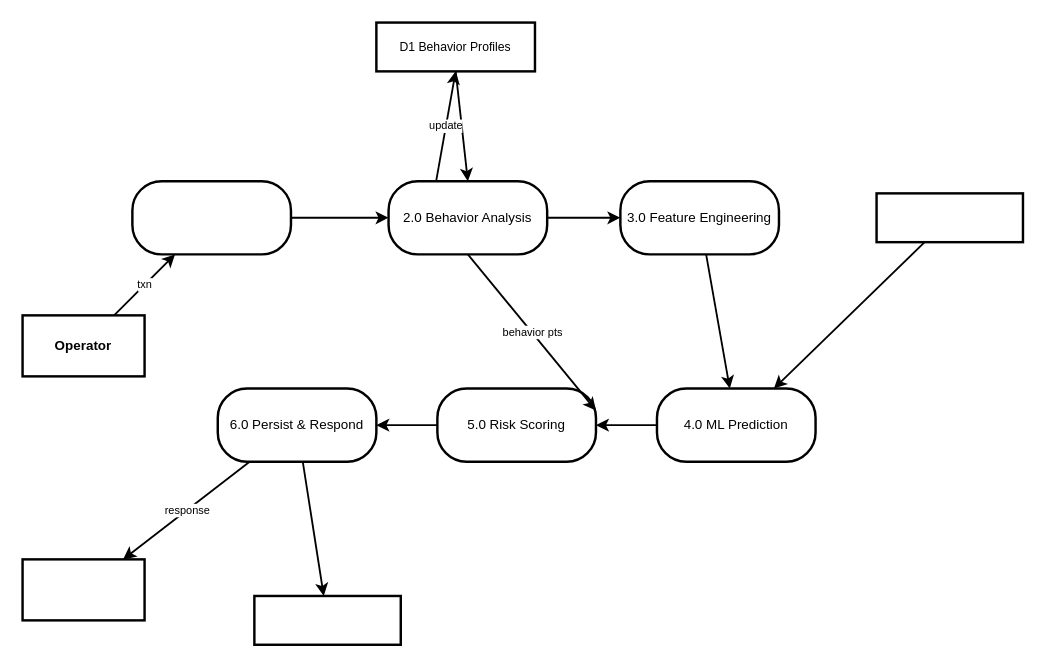
Image size: 1044x666. Some labels were removed from this diagram. The shapes that lost their labels are listed below. From the top down, each one's centre as x and y in pixels, then its label:
[211,217]: 1.0 Validate
[949,217]: D2 Model Artifacts
[83,589]: Dashboard
[327,619]: D3 Runtime Store
